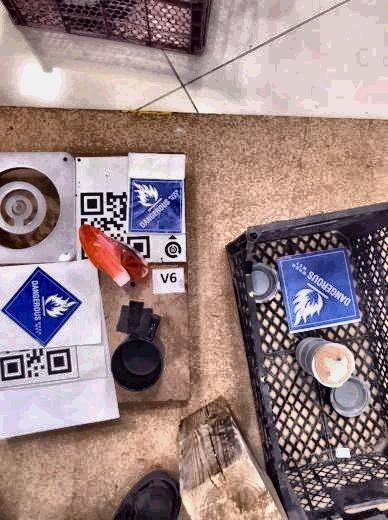dangerous-when-wet: (279, 248, 359, 330), (1, 266, 82, 344), (128, 176, 181, 233)
